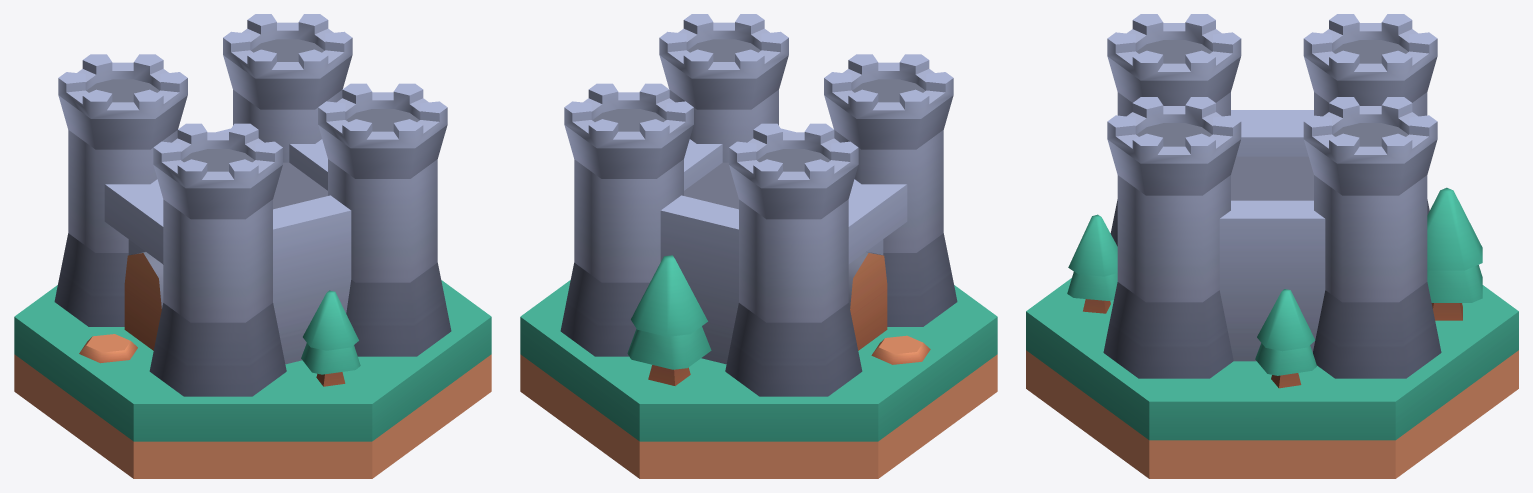
The model's file is kenney-hexagon-building-castle.glb.
3 renders of one model, left to right at view 1: azimuth 30°, elevation 25°; view 2: azimuth 150°, elevation 25°; view 3: azimuth 270°, elevation 25°, orthographic. The views are drawn at different scales.
Visible parts, largest first — view 1: building_castle; view 2: building_castle; view 3: building_castle.
Part boxes in pixels (x1,y1,x2,y2): building_castle: [14, 14, 491, 478]; building_castle: [520, 14, 997, 478]; building_castle: [1026, 14, 1518, 478].
Size of the model in its own units: 1 by 0.798 by 1.15.
Materials: 1 (1 with a texture image).
